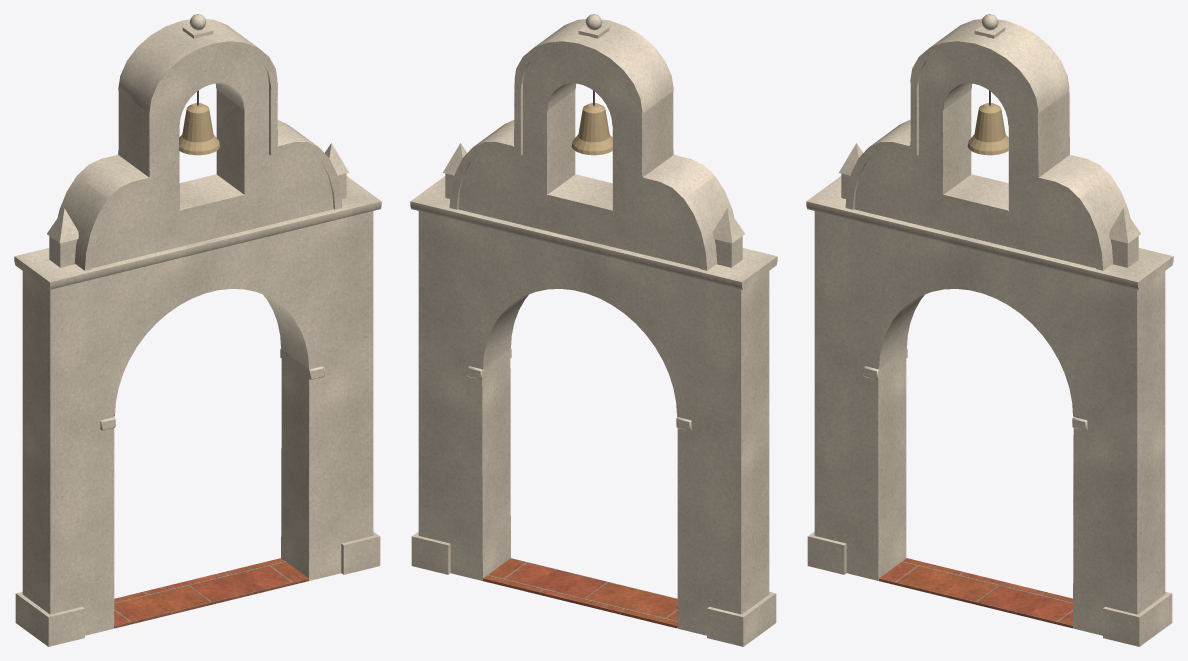
Rendered from gate_arch.glb.
3 renders of one model, left to right at view 1: azimuth 30°, elevation 25°; view 2: azimuth 150°, elevation 25°; view 3: azimuth 330°, elevation 25°, orthographic.
Parts seen in each view (by area): view 1: gate_arch_render, gate_arch_saltillo, gate_arch_bronze; view 2: gate_arch_render, gate_arch_saltillo, gate_arch_bronze; view 3: gate_arch_render, gate_arch_saltillo, gate_arch_bronze.
Boxes of the visible parts, x1,y1,x2,y2 form: gate_arch_render: (14,14,381,646); gate_arch_saltillo: (114,558,308,628); gate_arch_bronze: (179,103,220,155); gate_arch_render: (410,14,777,646); gate_arch_saltillo: (483,558,677,628); gate_arch_bronze: (571,103,612,155); gate_arch_render: (806,14,1173,646); gate_arch_saltillo: (879,558,1073,628); gate_arch_bronze: (967,103,1008,155).
Size of the model in its own units: 4.1 by 6.85 by 0.76.
Materials: 5 (3 with a texture image).
